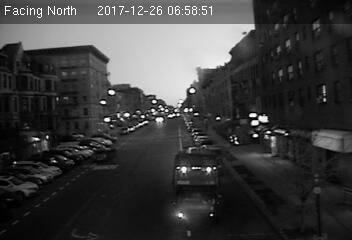car: (91, 146, 117, 161)
truck: (173, 148, 218, 186)
